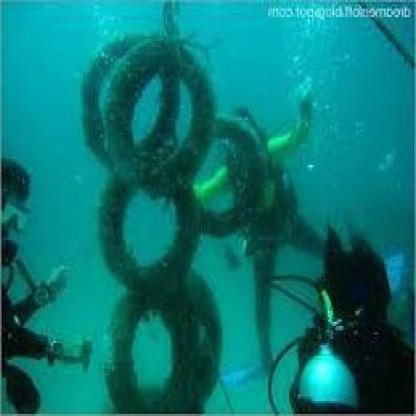tire: (110, 259, 222, 416), (85, 43, 206, 180), (95, 150, 201, 296), (175, 90, 262, 232)
